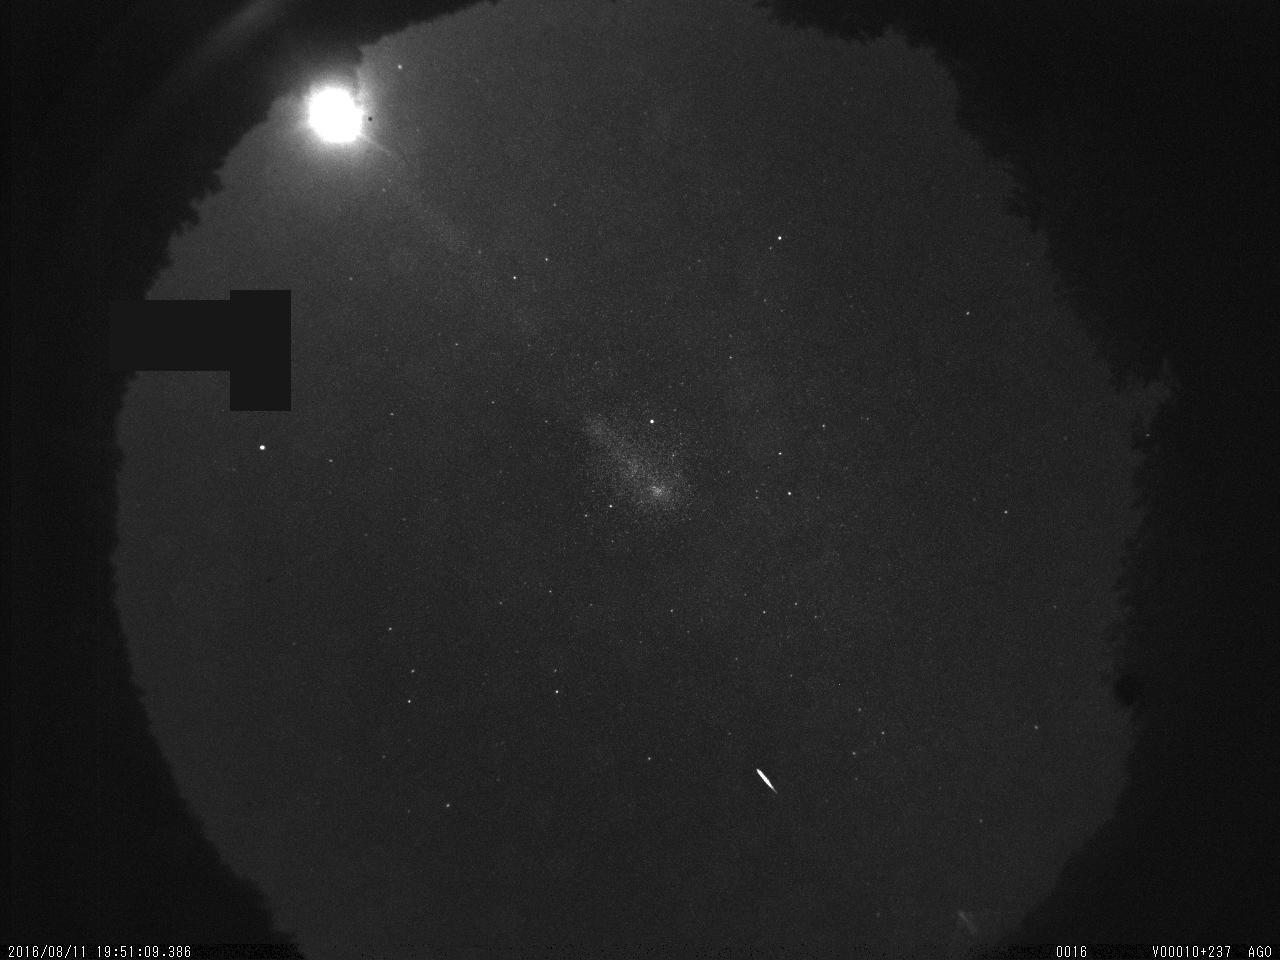meteor: (747, 754, 787, 802)
